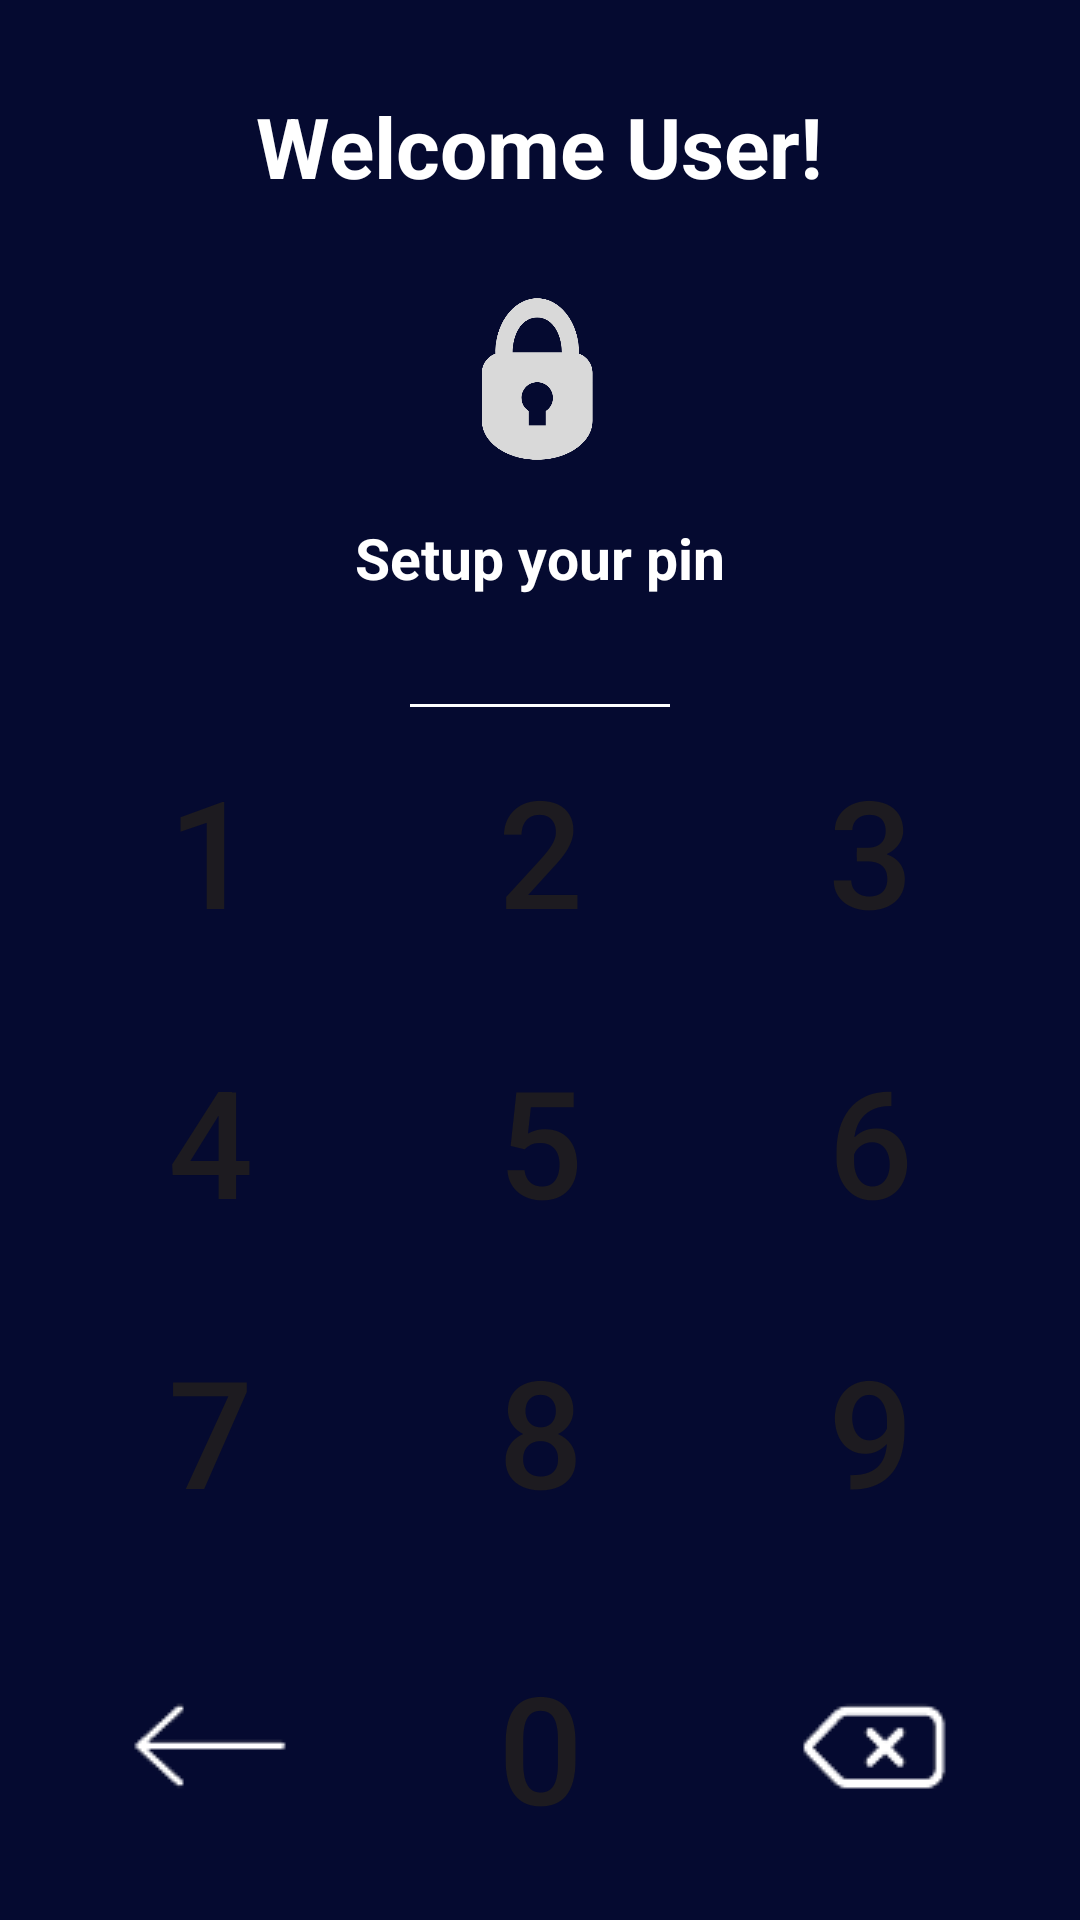

Icons on this 1080*1920 Android screen, each with the point to tap as (x,y):
erase: (874,1747)
